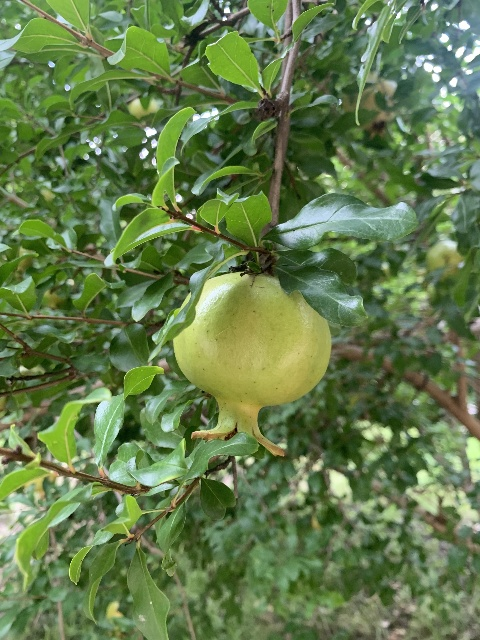mid-growth: (172, 271, 331, 457), (343, 78, 397, 140), (411, 240, 465, 281)
